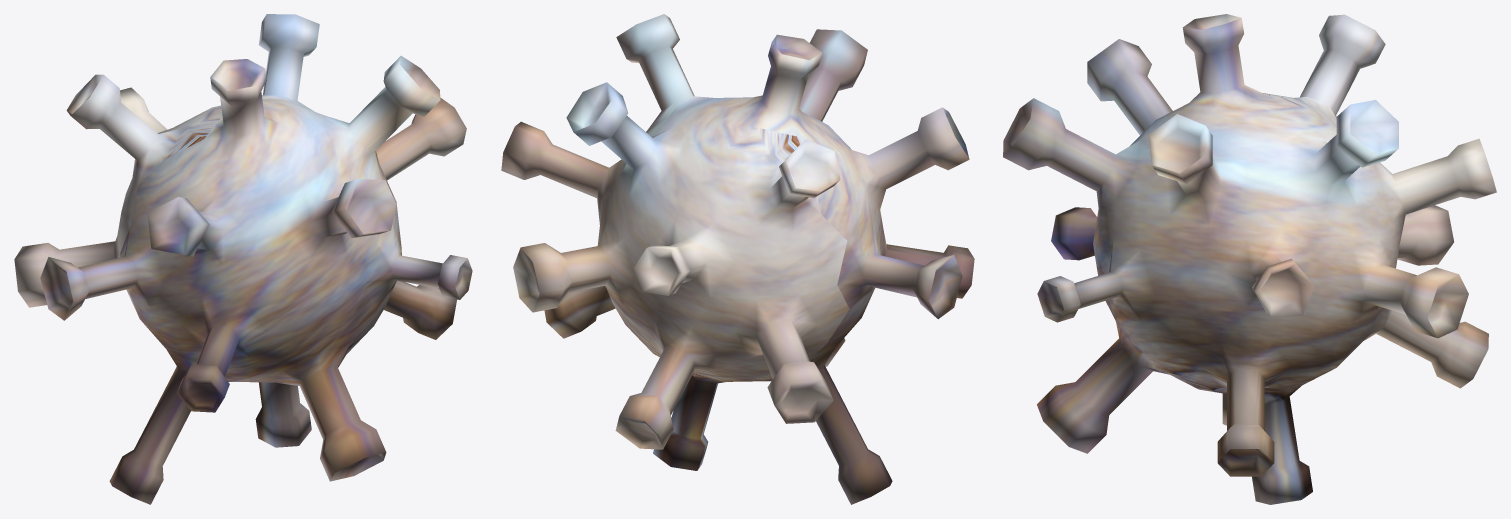
Rendered from corona.glb.
The picture shows the model from 3 angles, left to right: view 1: azimuth 30°, elevation 25°; view 2: azimuth 150°, elevation 25°; view 3: azimuth 270°, elevation 25°; orthographic projection. The views are drawn at different scales.
Parts seen in each view (by area): view 1: Icosphere; view 2: Icosphere; view 3: Icosphere.
Boxes of the visible parts, box(x1,y1,x2,y2) form: Icosphere: box(14, 14, 472, 504); Icosphere: box(501, 14, 974, 504); Icosphere: box(1003, 14, 1496, 504).
Size of the model in its own units: 3.38 by 3.29 by 3.22.
Materials: 1 (1 with a texture image).
